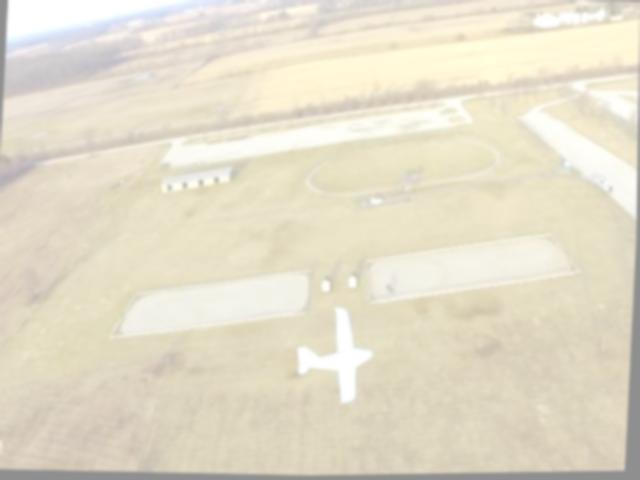uav: (288, 298, 383, 414)
